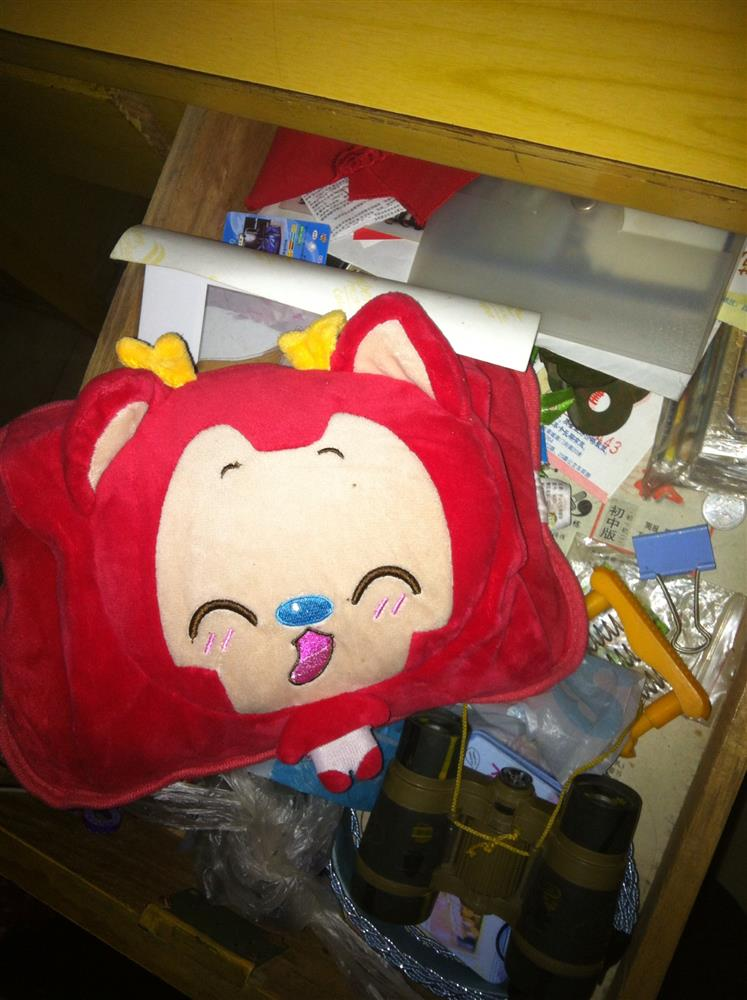Ali: (68, 308, 525, 795)
